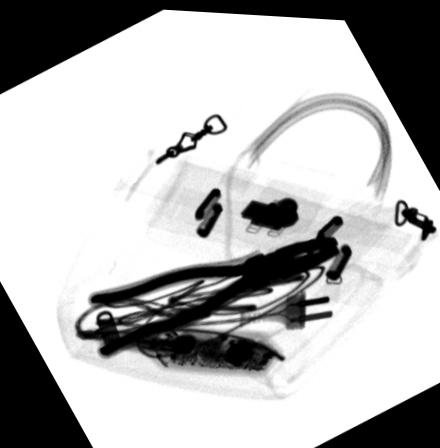Pliers: (85, 229, 341, 357)
